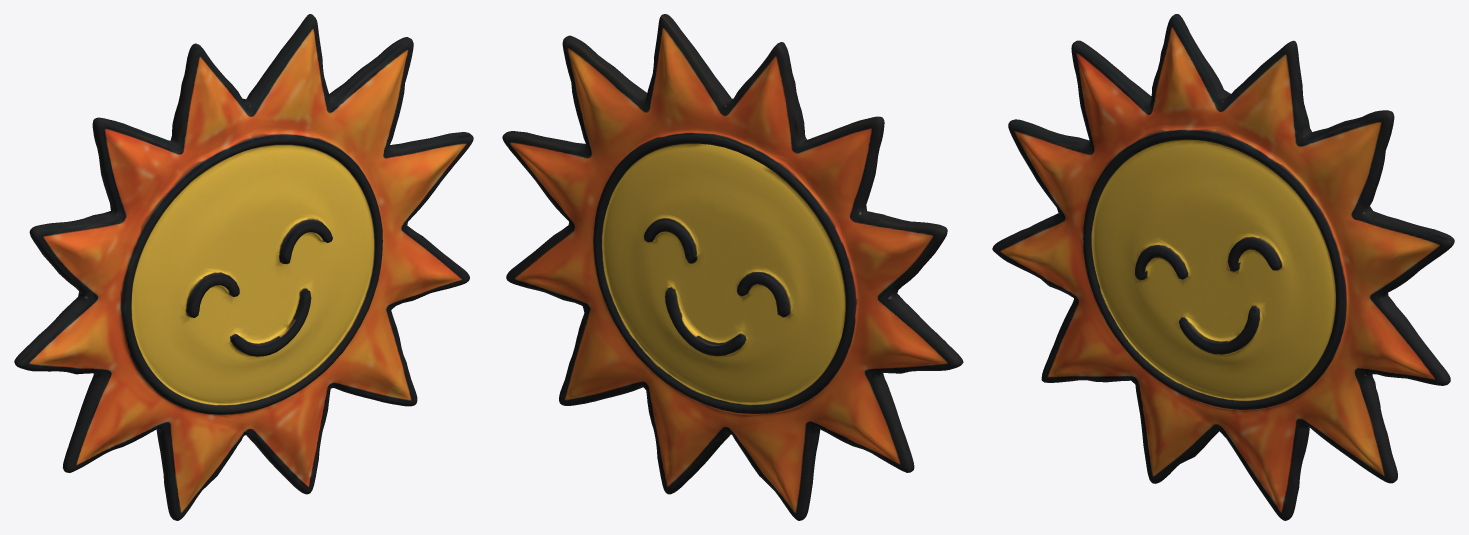
Rendered from sun.glb.
The picture shows the model from 3 angles, left to right: view 1: azimuth 30°, elevation 25°; view 2: azimuth 150°, elevation 25°; view 3: azimuth 330°, elevation 25°; orthographic projection.
Parts seen in each view (by area): view 1: tripo_node_0c0a885c-074b-4f39-9f2d-9c0671533aa2; view 2: tripo_node_0c0a885c-074b-4f39-9f2d-9c0671533aa2; view 3: tripo_node_0c0a885c-074b-4f39-9f2d-9c0671533aa2.
Boxes of the visible parts, x1,y1,x2,y2 form: tripo_node_0c0a885c-074b-4f39-9f2d-9c0671533aa2: (14, 14, 473, 520); tripo_node_0c0a885c-074b-4f39-9f2d-9c0671533aa2: (502, 14, 963, 520); tripo_node_0c0a885c-074b-4f39-9f2d-9c0671533aa2: (992, 14, 1454, 520).
Bounding box in the file's own units: 0.9789 × 0.9763 × 0.1361.
Materials: 1 (1 with a texture image).
